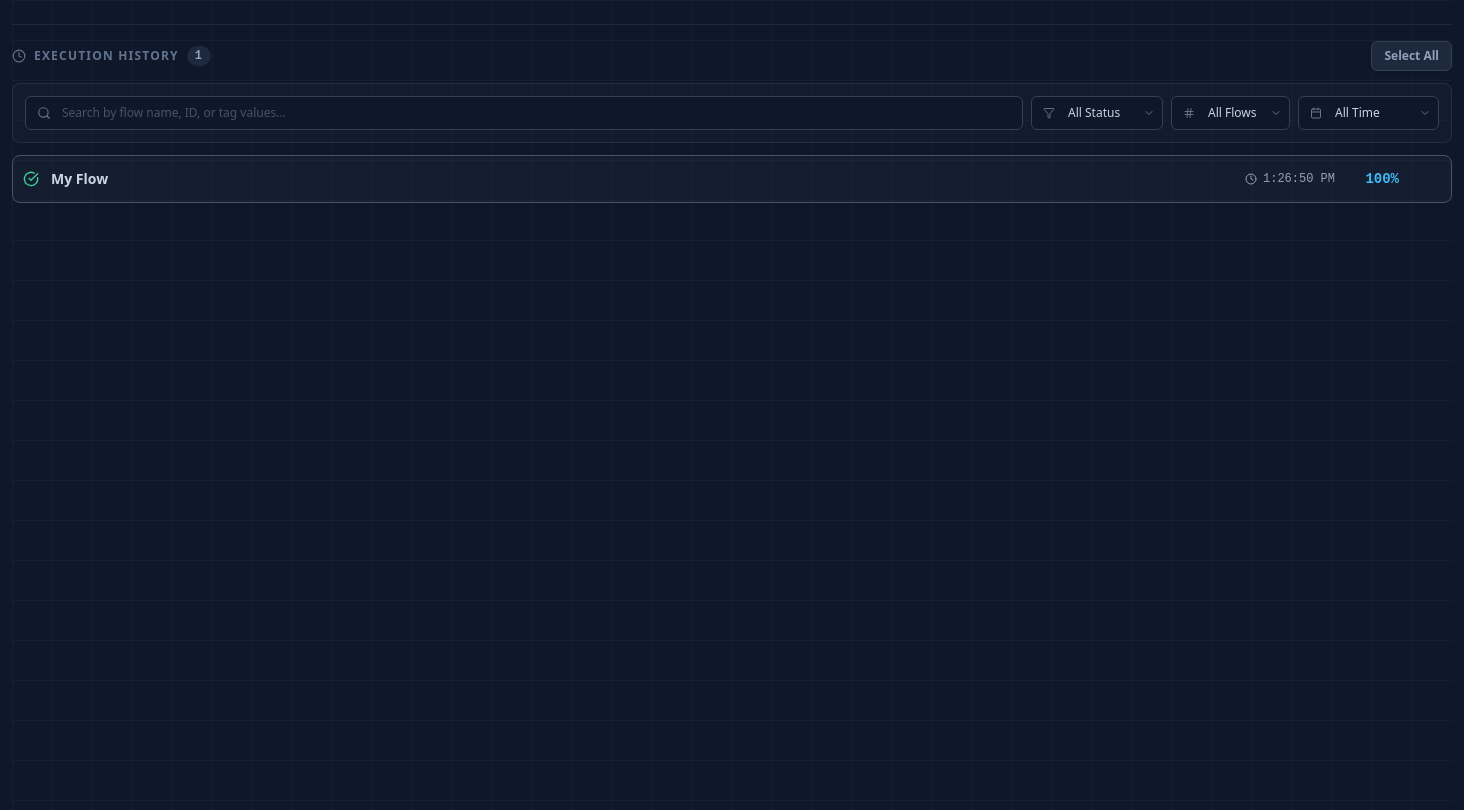
Test: HistoryPanel › shows "No matching runs found" when filter excludes all runs
Step 1. Select "Failed" in the 1st dropdown → (1097, 113), box [1031, 96, 1163, 130]
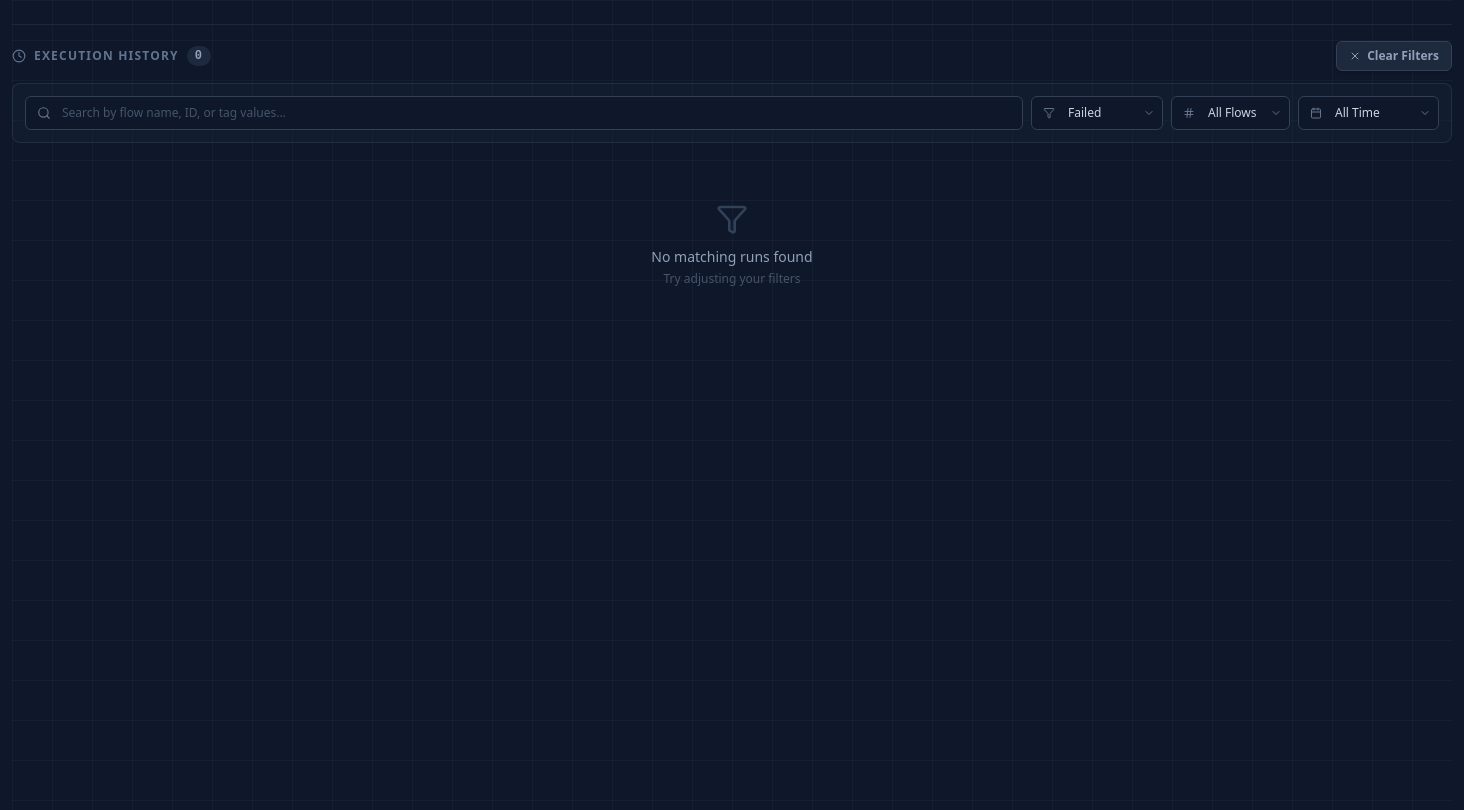
Check: the text "No matching runs found" is shown, box [651, 247, 813, 267]
